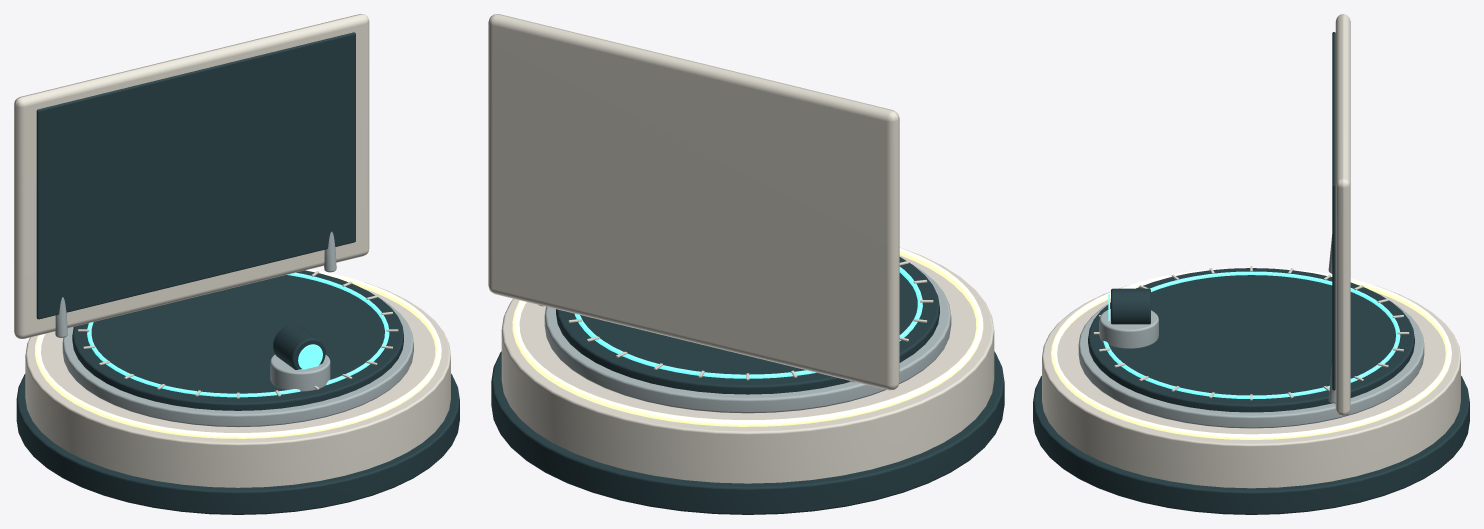
The model's file is light-projector.glb.
The picture shows the model from 3 angles, left to right: view 1: azimuth 30°, elevation 25°; view 2: azimuth 150°, elevation 25°; view 3: azimuth 270°, elevation 25°; orthographic projection. The views are drawn at different scales.
Visible parts, largest first — view 1: Recessed optical screen, Black optical surface, Ceramic plinth, Projection backing, Graphite footing, Rotary instrument bed, Warm rim, Calibration ring, Optic pedestal, Projection lens, Luminous optic; view 2: Projection backing, Ceramic plinth, Graphite footing, Black optical surface, Rotary instrument bed, Warm rim, Calibration ring; view 3: Black optical surface, Ceramic plinth, Graphite footing, Rotary instrument bed, Projection backing, Warm rim, Calibration ring, Optic pedestal, Projection lens, Recessed optical screen.
Boxes of the visible parts, x1=… form: Recessed optical screen: x1=36, y1=32, x2=355, y2=319; Black optical surface: x1=72, y1=270, x2=403, y2=410; Ceramic plinth: x1=25, y1=282, x2=450, y2=487; Projection backing: x1=14, y1=14, x2=369, y2=338; Graphite footing: x1=16, y1=373, x2=459, y2=514; Rotary instrument bed: x1=62, y1=297, x2=413, y2=427; Warm rim: x1=35, y1=269, x2=441, y2=438; Calibration ring: x1=87, y1=272, x2=389, y2=397; Optic pedestal: x1=270, y1=354, x2=330, y2=391; Projection lens: x1=273, y1=324, x2=325, y2=369; Luminous optic: x1=298, y1=344, x2=322, y2=369; Projection backing: x1=488, y1=14, x2=899, y2=390; Ceramic plinth: x1=501, y1=247, x2=994, y2=483; Graphite footing: x1=491, y1=351, x2=1004, y2=514; Black optical surface: x1=556, y1=257, x2=939, y2=394; Rotary instrument bed: x1=544, y1=262, x2=951, y2=413; Warm rim: x1=512, y1=248, x2=983, y2=426; Calibration ring: x1=574, y1=267, x2=922, y2=378; Black optical surface: x1=1088, y1=268, x2=1414, y2=412; Ceramic plinth: x1=1042, y1=286, x2=1460, y2=488; Graphite footing: x1=1033, y1=376, x2=1469, y2=514; Rotary instrument bed: x1=1078, y1=300, x2=1424, y2=428; Projection backing: x1=1335, y1=14, x2=1350, y2=416; Warm rim: x1=1051, y1=267, x2=1451, y2=439; Calibration ring: x1=1103, y1=271, x2=1400, y2=398; Optic pedestal: x1=1099, y1=309, x2=1158, y2=348; Projection lens: x1=1111, y1=288, x2=1150, y2=324; Recessed optical screen: x1=1332, y1=32, x2=1335, y2=390.
Bounding box in the file's own units: 5 × 4.13 × 5.
